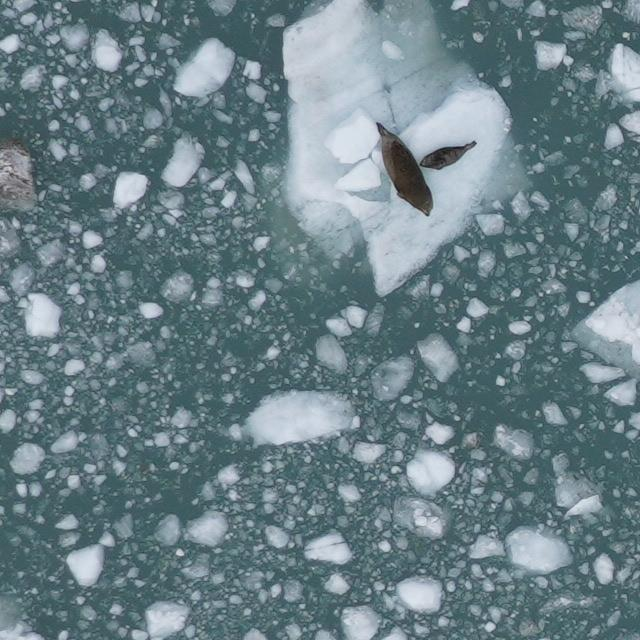seal: (372, 118, 437, 219), (416, 138, 482, 174)
